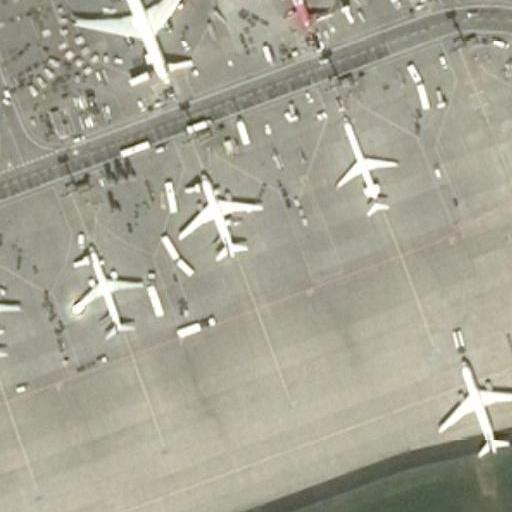Aircraft: (71, 0, 199, 90), (170, 174, 260, 268), (63, 239, 149, 337), (430, 352, 511, 456), (327, 116, 399, 210), (237, 0, 328, 30), (0, 259, 21, 372)
